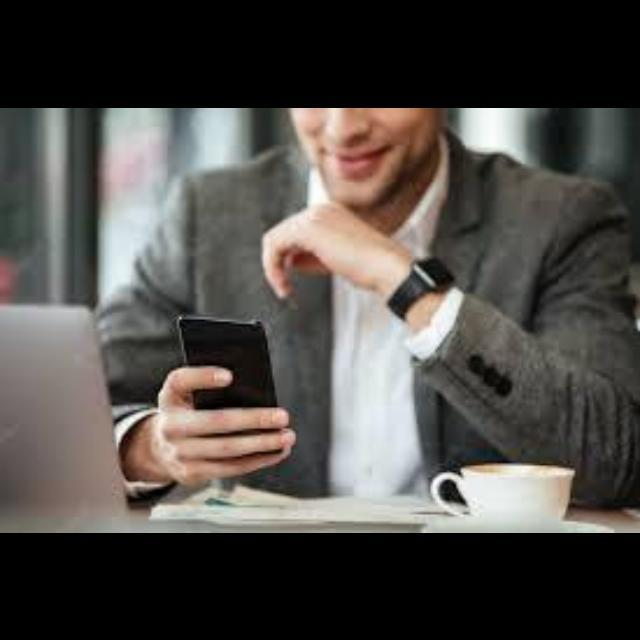PhoneUse: (176, 314, 284, 454)
